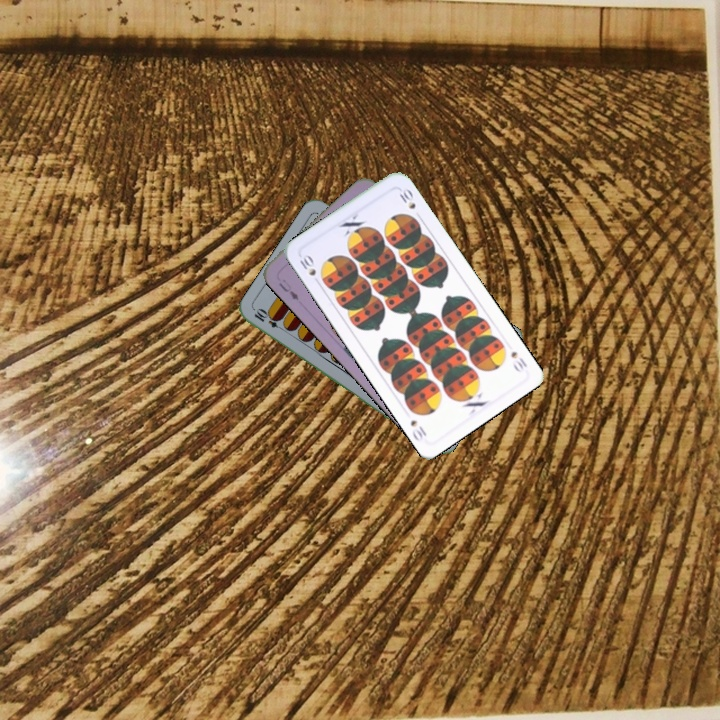E10: (250, 305, 288, 334)
EU: (275, 275, 301, 303)
S10: (294, 250, 323, 288), (507, 347, 530, 372)
